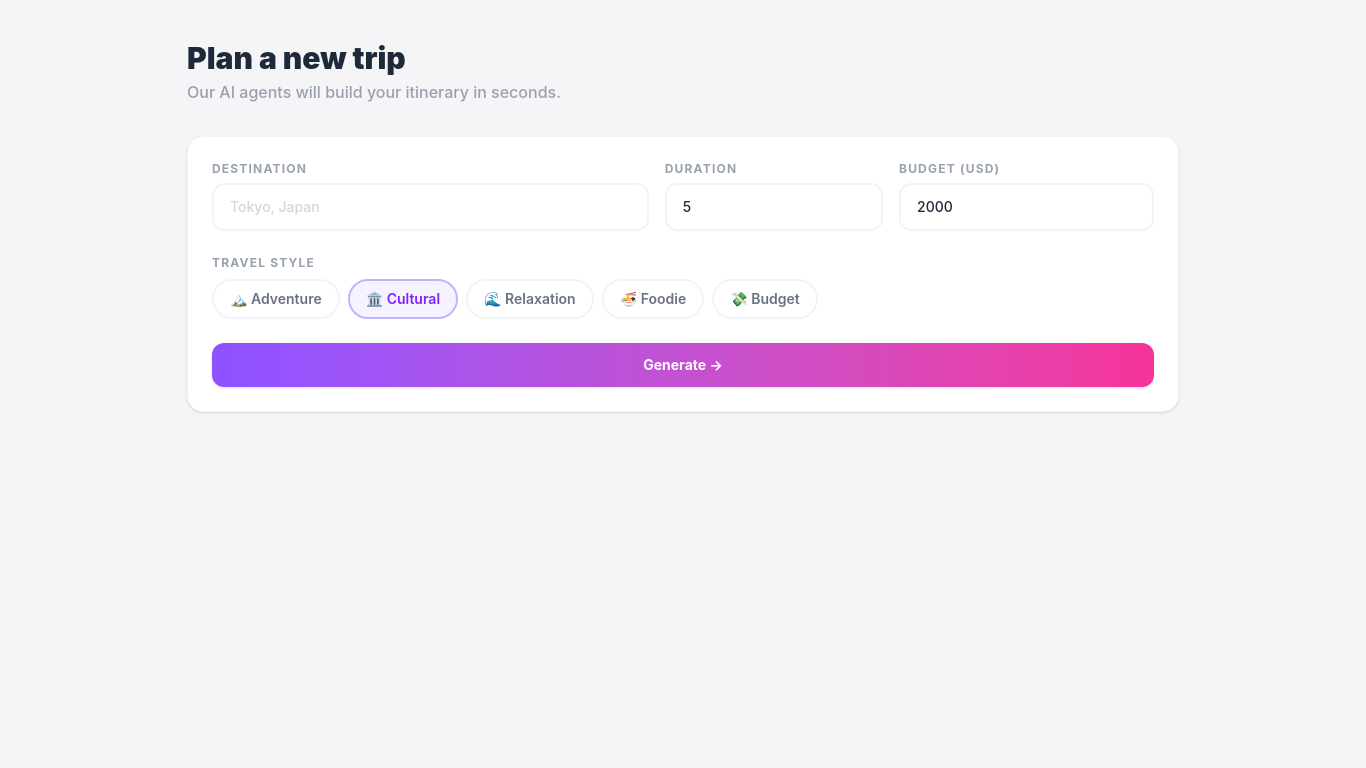
Scenario: TripPlanner — judge error › shows error when judge API returns non-ok after successful generate
This screenshot has width=1366, height=768.
Type "Tokyo" into the field with placeholder "Tokyo, Japan" at (430, 207), box left=212, top=183, right=649, bottom=231
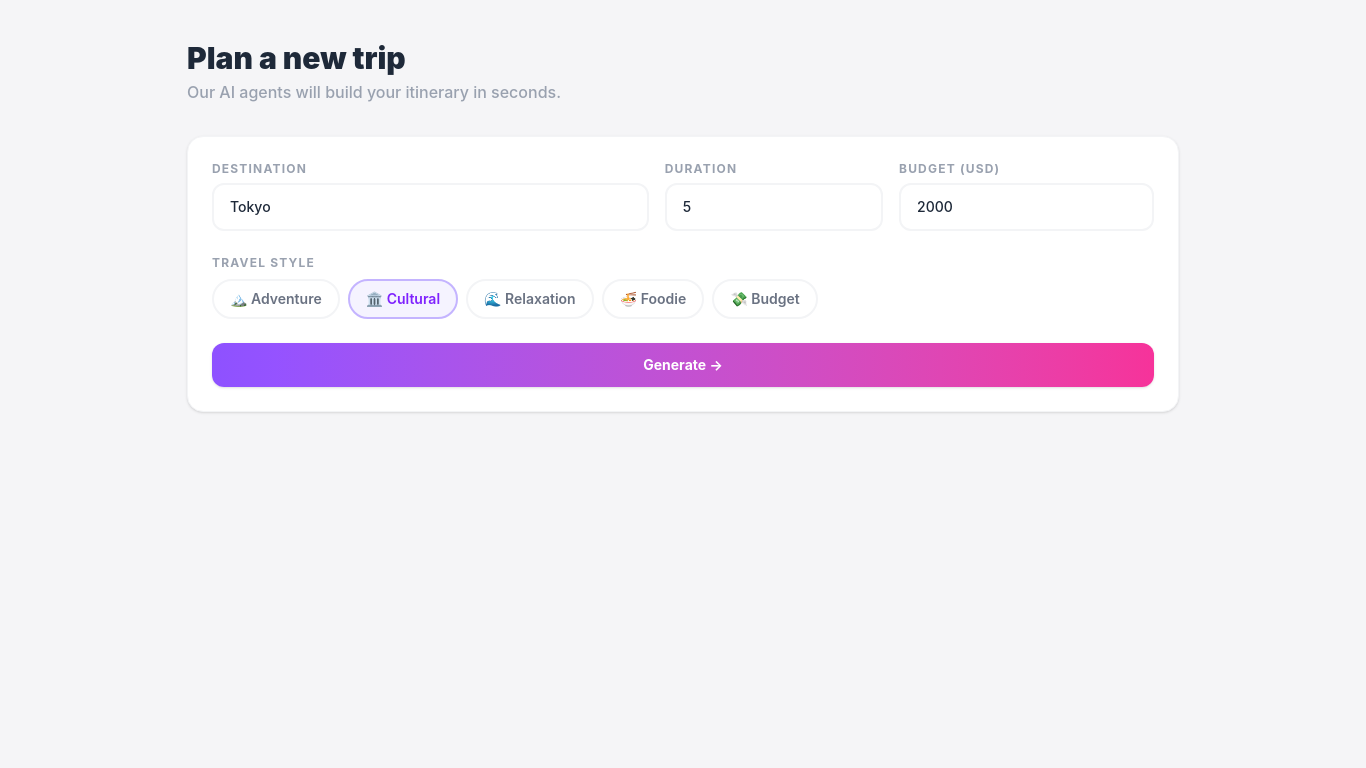
Submit the form named "Generate", box left=187, top=136, right=1179, bottom=412
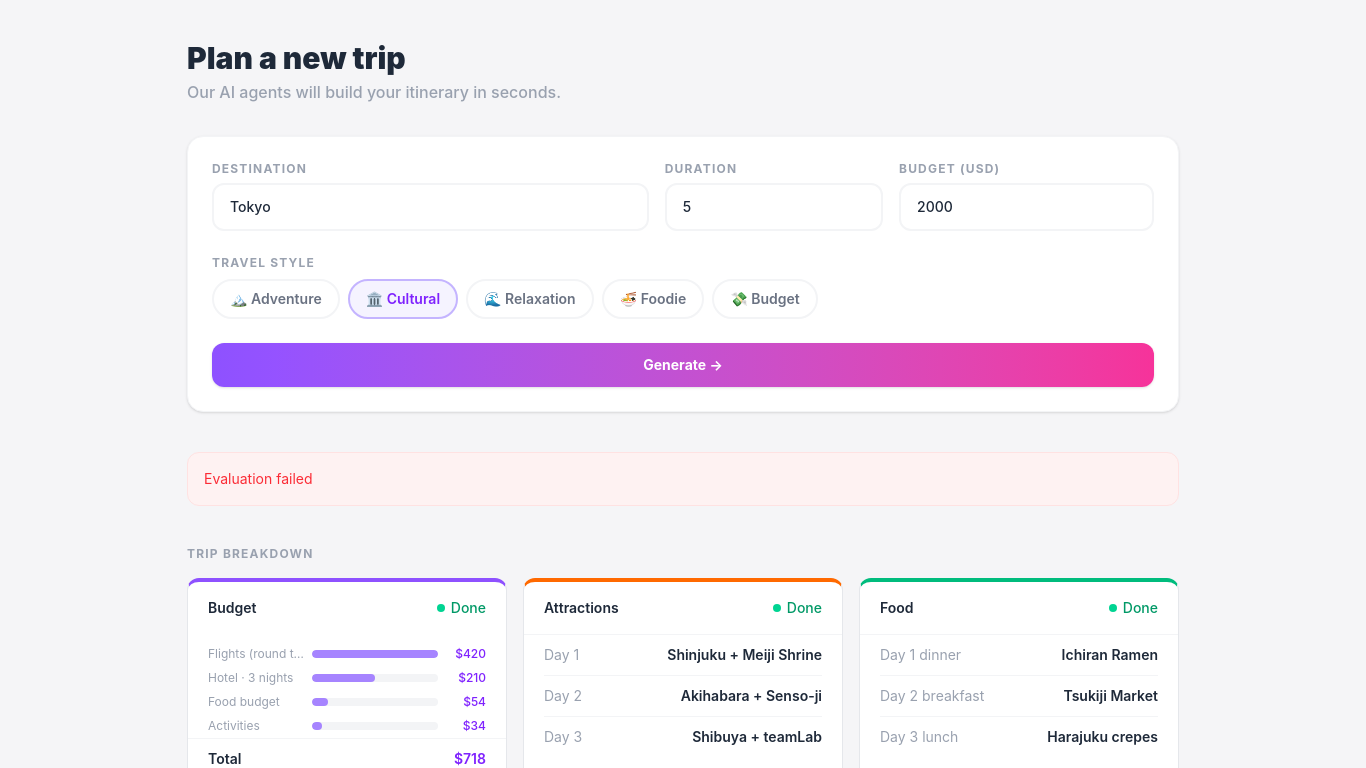
Result: the text "Evaluation failed" is shown at left=204, top=470, right=312, bottom=487
